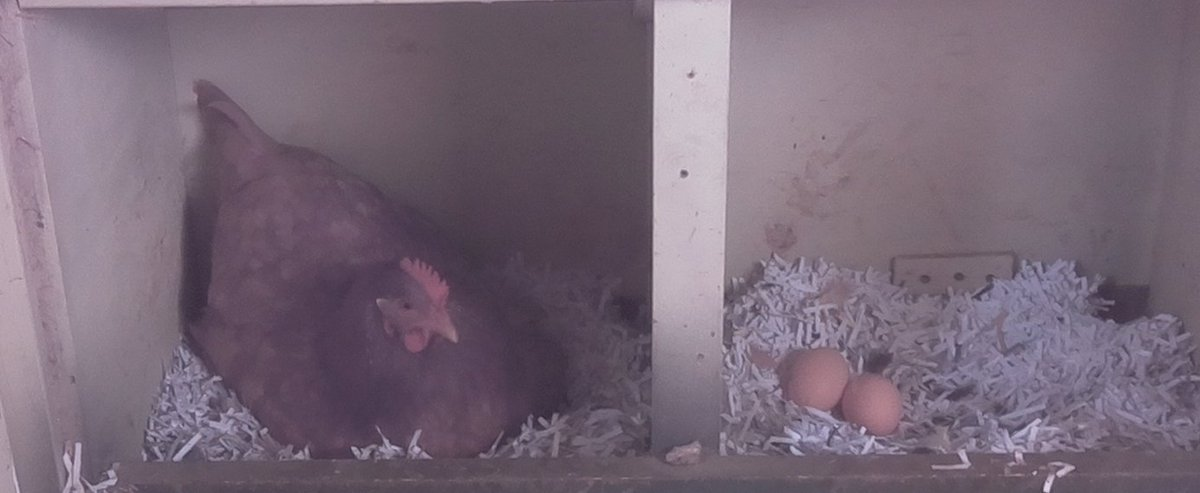egg: (839, 368, 910, 443), (786, 342, 854, 417)
hen: (193, 99, 577, 454)
